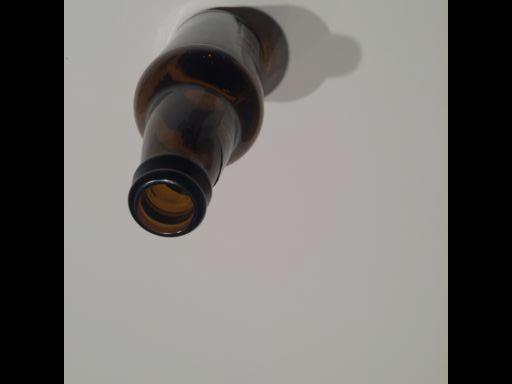glass: (128, 8, 287, 237)
